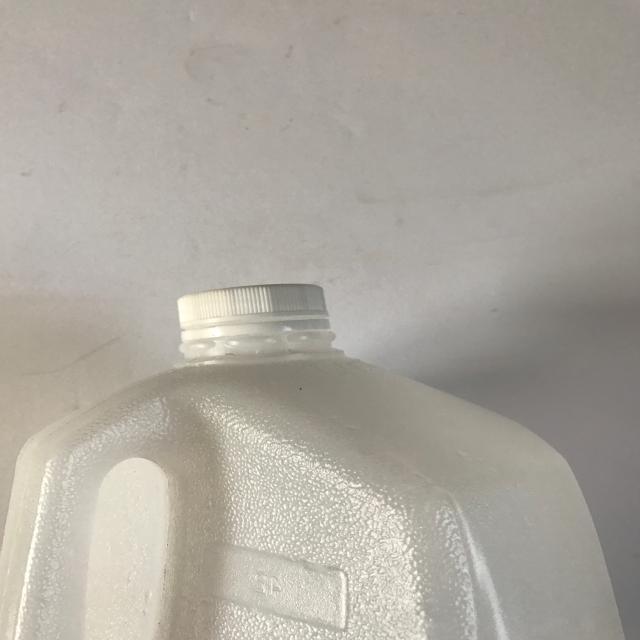plastic: (0, 282, 627, 640)
